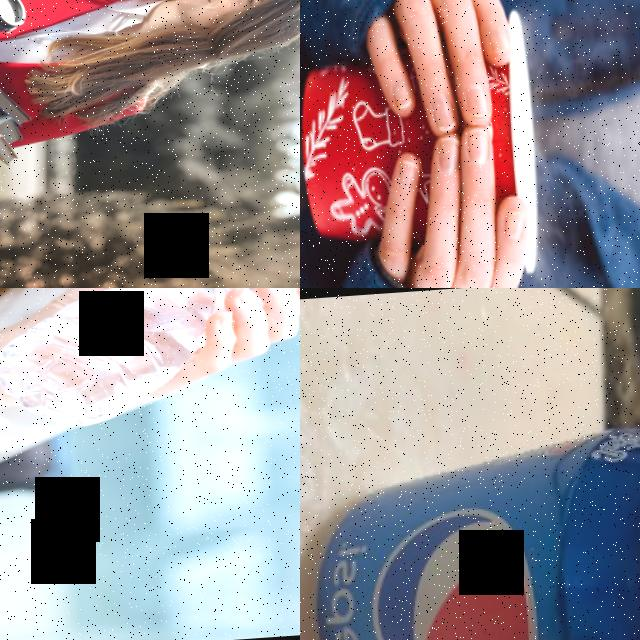bottle: (0, 288, 300, 433)
can: (300, 411, 640, 640)
cup: (300, 4, 542, 288)
